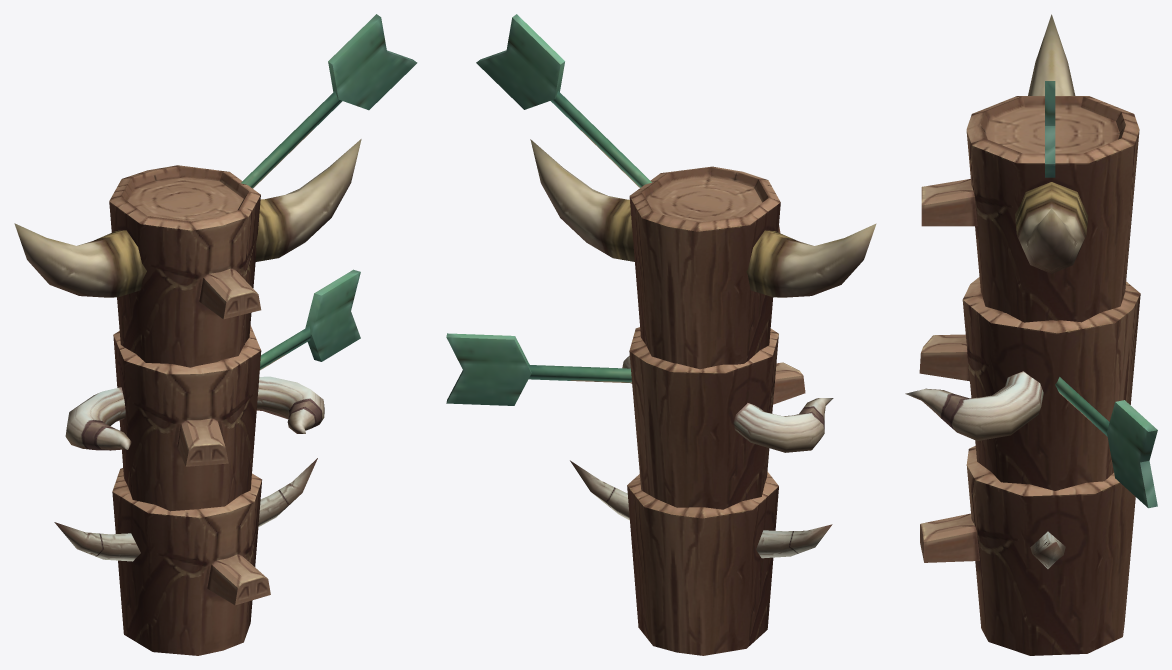
Rendered from Lty_diaoxiang01.FBX.
The picture shows the model from 3 angles, left to right: view 1: azimuth 30°, elevation 25°; view 2: azimuth 150°, elevation 25°; view 3: azimuth 270°, elevation 25°; orthographic projection. The views are drawn at different scales.
Parts seen in each view (by area): view 1: Lty_diaoxiang01; view 2: Lty_diaoxiang01; view 3: Lty_diaoxiang01.
Boxes of the visible parts, x1,y1,x2,y2 form: Lty_diaoxiang01: (14, 14, 417, 655); Lty_diaoxiang01: (446, 14, 876, 655); Lty_diaoxiang01: (905, 14, 1157, 655).
Bounding box in the file's own units: 197 × 93.97 × 267.
